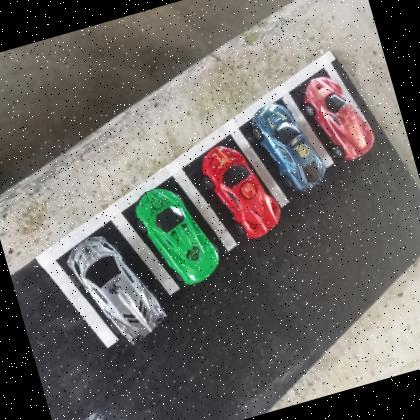Car: (62, 222, 172, 358), (128, 176, 225, 296), (195, 134, 286, 248), (247, 94, 331, 201), (297, 66, 380, 169)
